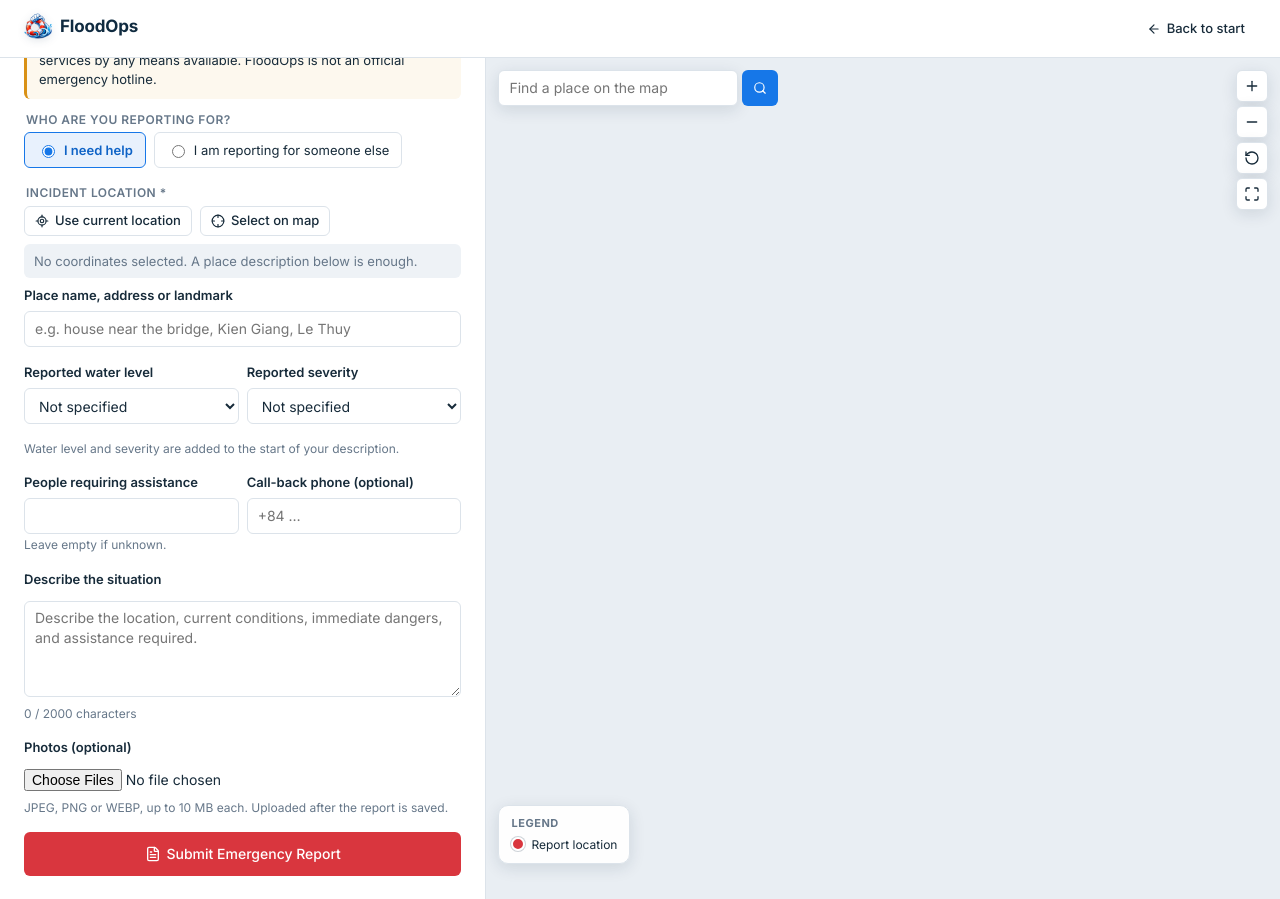
it: ReportPage › requires a location before sending anything
The image size is (1280, 899).
(page scrolled)
Click the button "Submit Emergency Report". click: (243, 854)
box: x1=24 y1=832 x2=461 y2=876
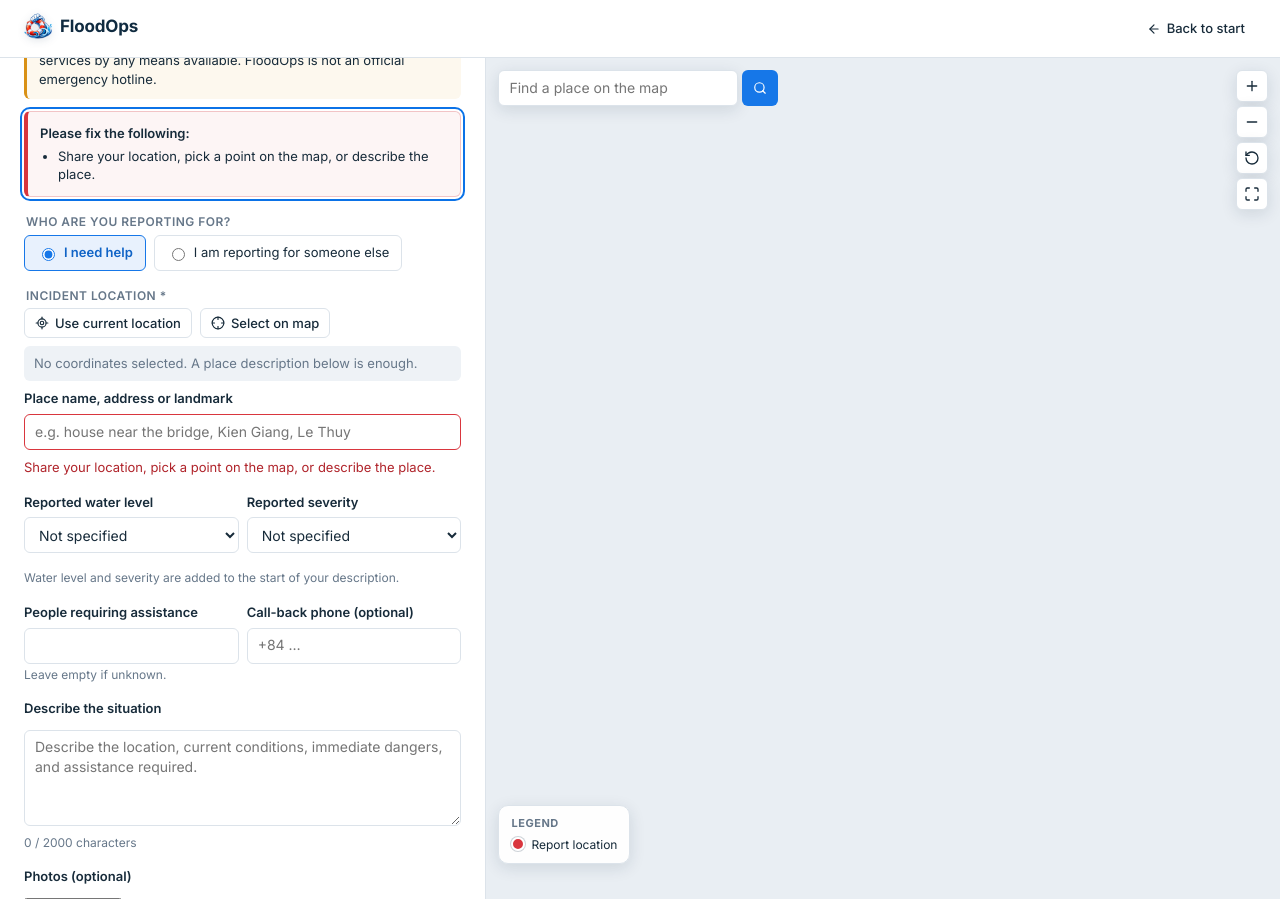
Now the message shows "Share your location", box x1=58 y1=148 x2=429 y2=182
